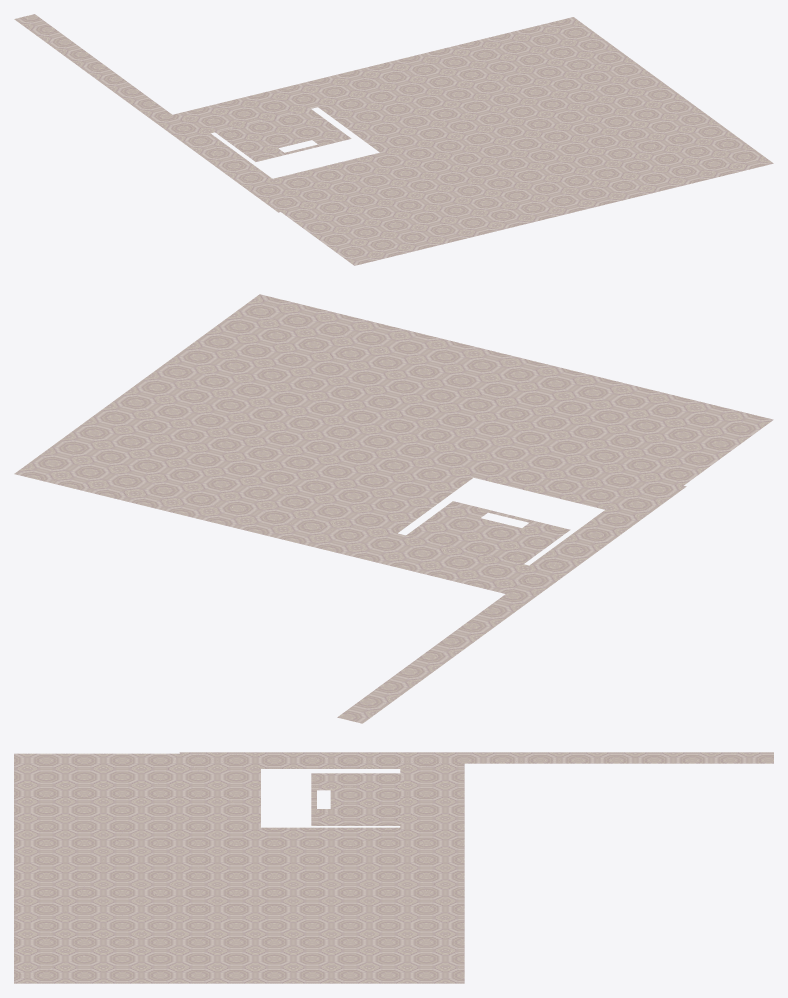
Rendered from kd_stage_135c43_4_102.glb.
3 renders of one model, top to bottom at view 1: azimuth 30°, elevation 25°; view 2: azimuth 150°, elevation 25°; view 3: azimuth 270°, elevation 25°, orthographic. The views are drawn at different scales.
Visible parts, largest first — view 1: kd_stage_135c43_4_102; view 2: kd_stage_135c43_4_102; view 3: kd_stage_135c43_4_102.
Part boxes in pixels (x1=…): kd_stage_135c43_4_102: x1=14, y1=14, x2=773, y2=265; kd_stage_135c43_4_102: x1=14, y1=294, x2=773, y2=723; kd_stage_135c43_4_102: x1=14, y1=752, x2=773, y2=983.
Bounding box in the file's own units: 3.18 × 0.00879 × 4.42.
Materials: 1 (1 with a texture image).
